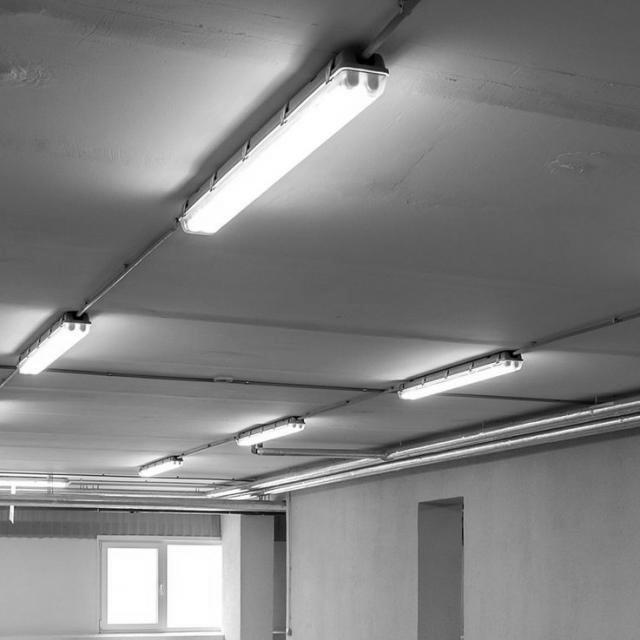light: (176, 48, 389, 236), (396, 349, 524, 400), (15, 310, 91, 375), (234, 415, 306, 447), (137, 454, 183, 477)
